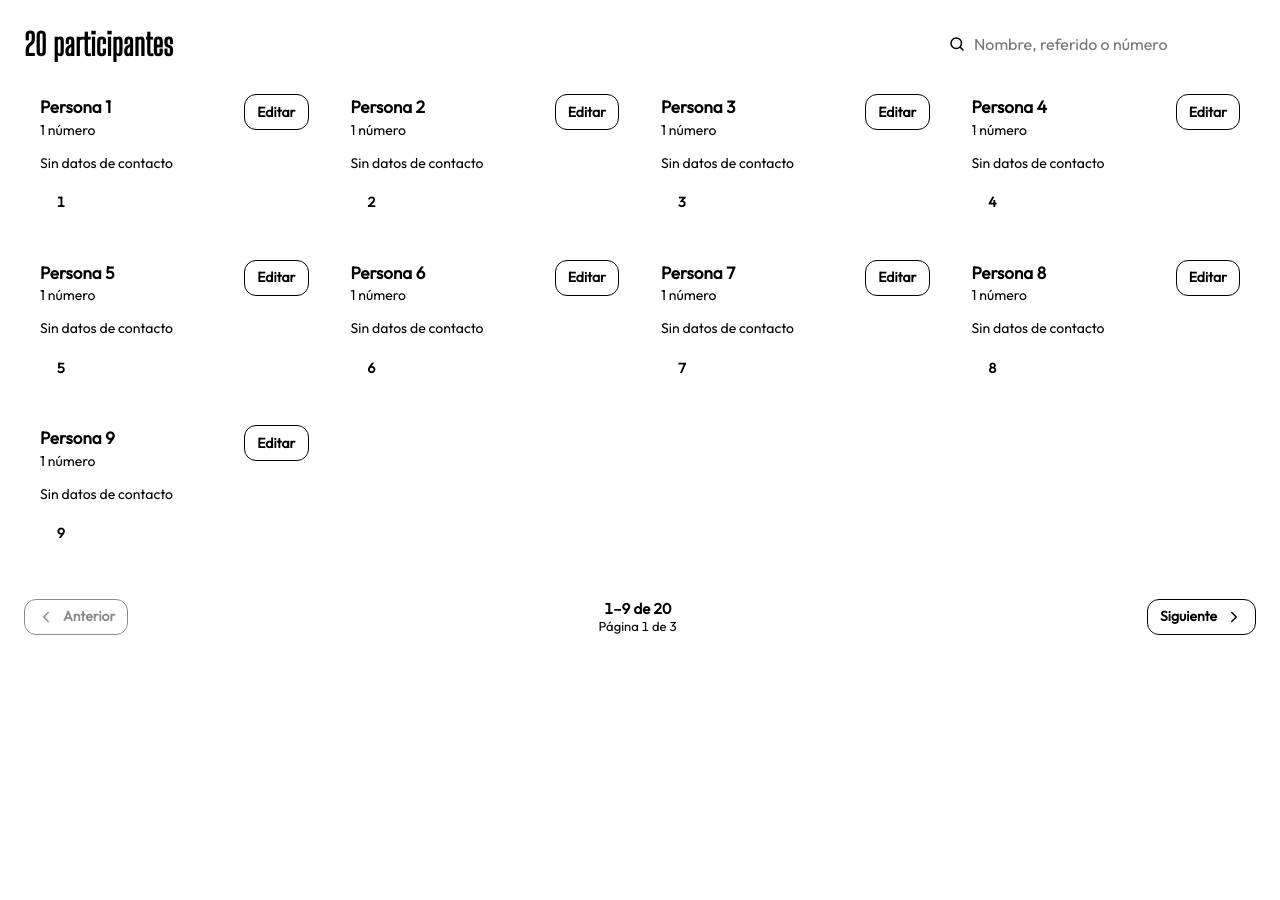
Scenario: ParticipantsView › pagina de a 9 y vuelve a la primera al buscar
The image size is (1280, 900).
Check: the text "1–9 de 20" is shown, box [604,598,671,618]
Check: the button with aria-label "Página anterior" is disabled, box [24,599,128,635]
Step 1. Click the button with aria-label "Página siguiente" → (1202, 617), box [1147,599,1256,635]
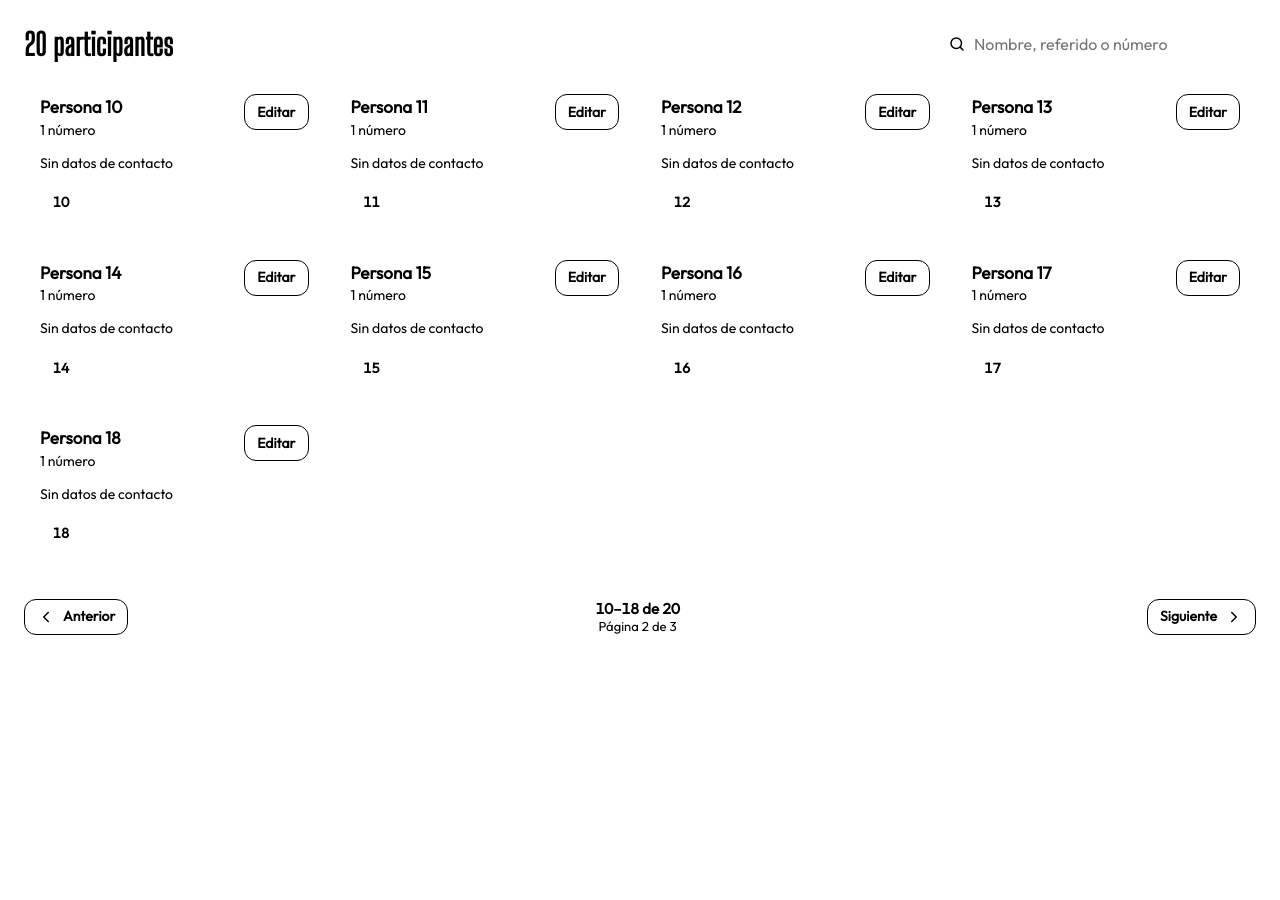
Step 2. Click the button with aria-label "Página siguiente" → (1202, 617), box [1147,599,1256,635]
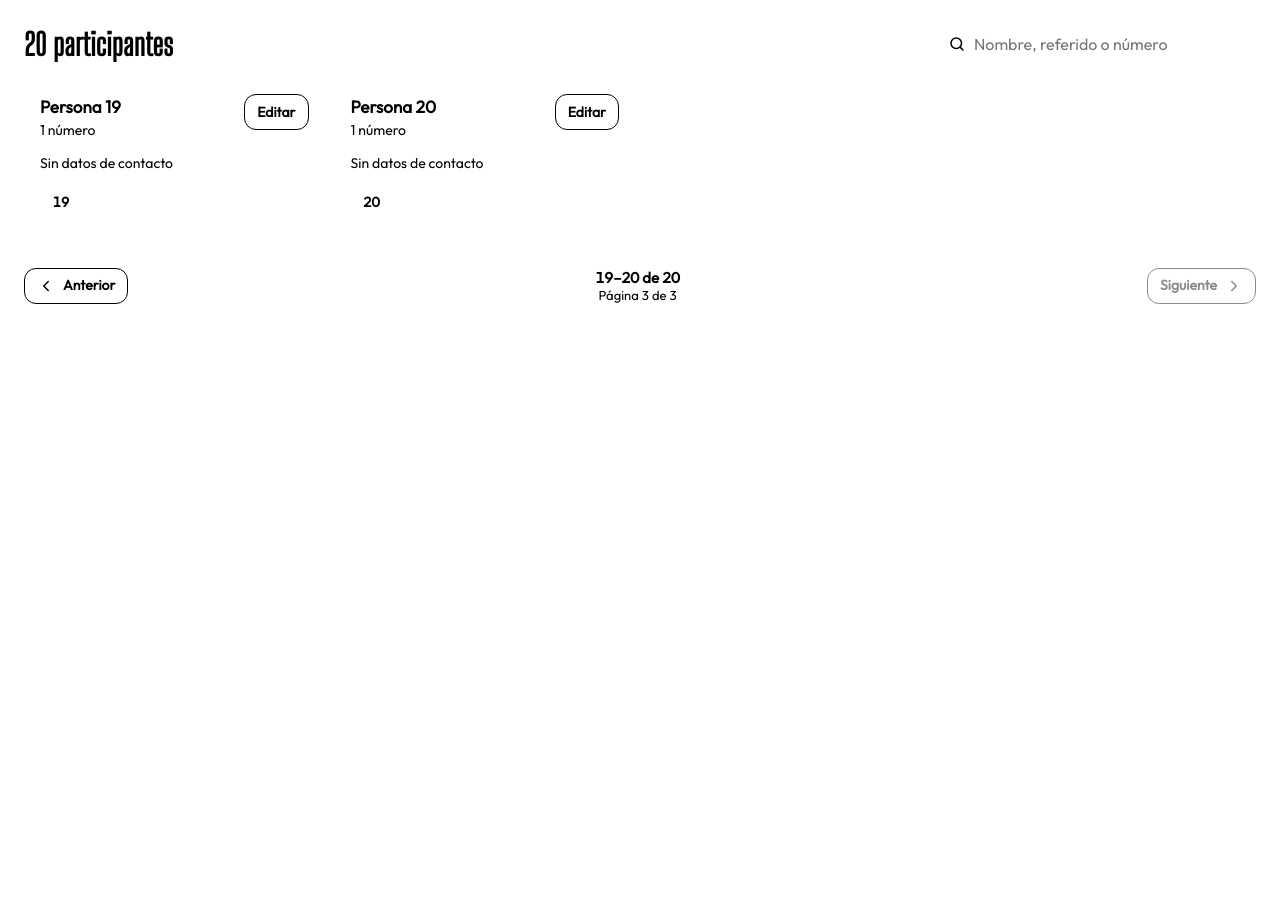
Check: the text "Página 3 de 3" is shown, box [599,287,677,304]
Check: the button with aria-label "Página siguiente" is disabled, box [1147,268,1256,304]
Step 3. Type "persona 1" into the search field → (1096, 44), box [936,24,1256,64]
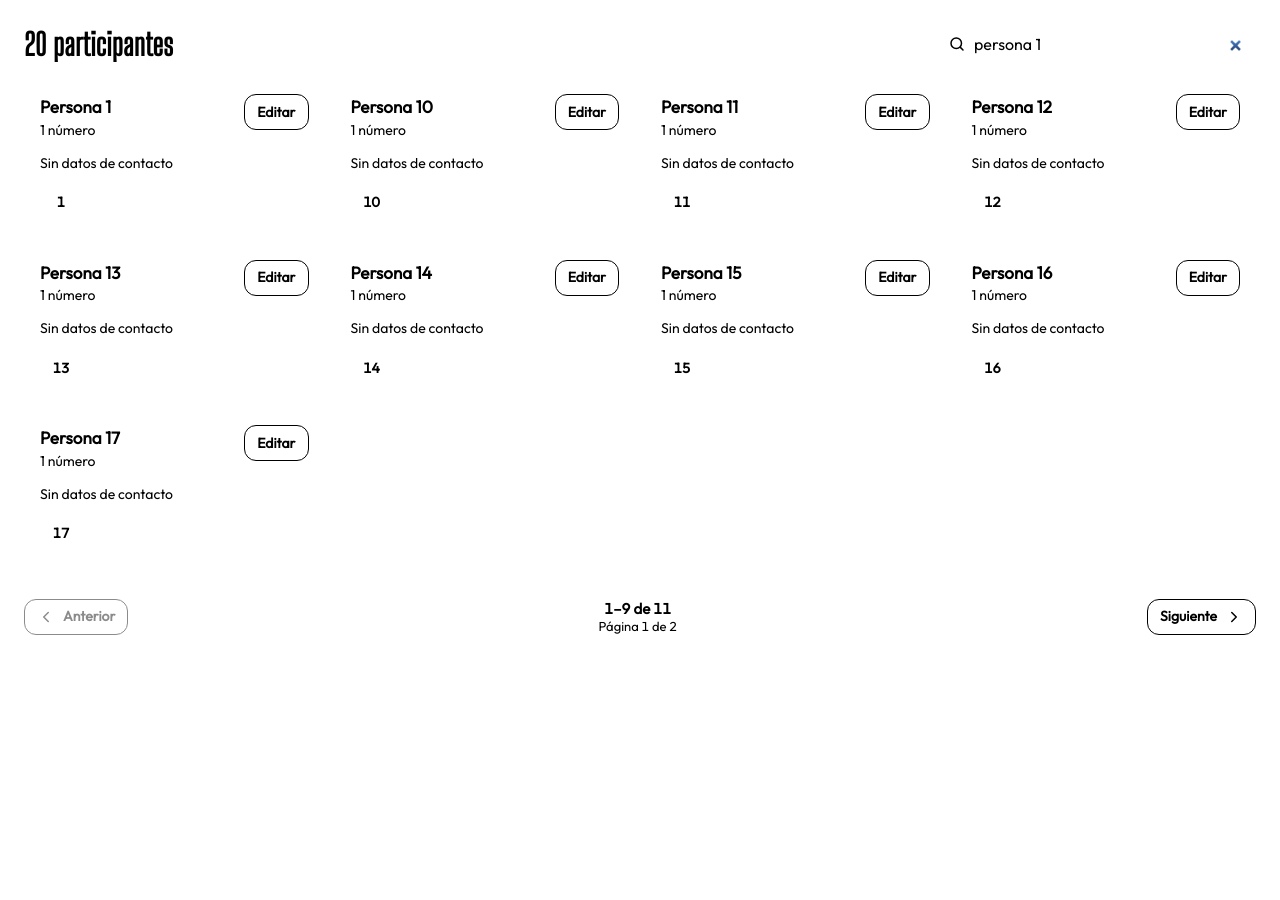
Check: the text "1–9 de 11" is shown, box [604,598,671,618]
